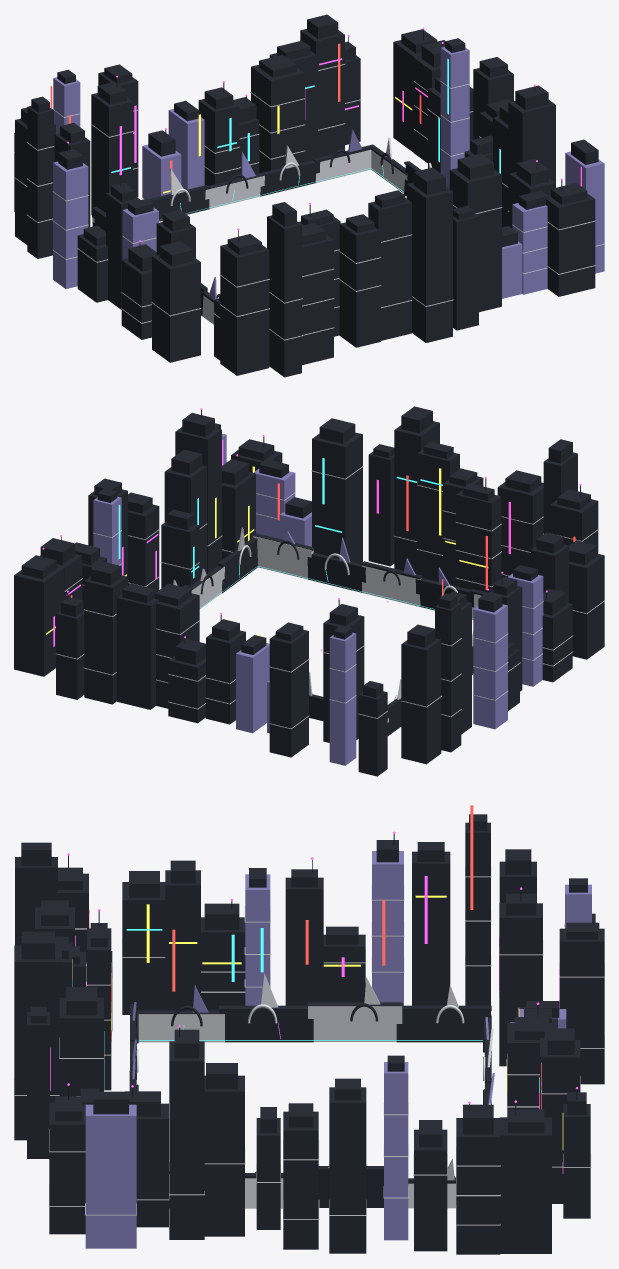
The model's file is AAT_Border.glb.
3 renders of one model, top to bottom at view 1: azimuth 30°, elevation 25°; view 2: azimuth 150°, elevation 25°; view 3: azimuth 270°, elevation 25°, orthographic. The views are drawn at different scales.
Parts seen in each view (by area): view 1: BorderDeco__graphite, BorderDeco__lavender, BorderDeco__pearl, Wall_BorderN3__pearl, Wall_BorderN5__pearl, Wall_BorderN4__graphite, Wall_BorderN2__graphite, BorderDeco__bio, Wall_BorderE1__pearl, BorderDeco__magenta; view 2: BorderDeco__graphite, BorderDeco__lavender, BorderDeco__pearl, Wall_BorderS1__pearl, Wall_BorderS3__pearl, Wall_BorderS2__graphite, Wall_BorderE4__graphite, BorderDeco__bio, Wall_BorderS4__graphite, Wall_BorderE3__pearl, BorderDeco__magenta, BorderDeco__amber (+1 smaller); view 3: BorderDeco__graphite, BorderDeco__lavender, BorderDeco__pearl, Wall_BorderW3__pearl, Wall_BorderW2__graphite, Wall_BorderW4__graphite, Wall_BorderW1__pearl, BorderDeco__lantern, Wall_BorderE2__graphite, BorderDeco__bio, BorderDeco__amber, BorderDeco__magenta.
Part boxes in pixels (x1,y1,x2,y2): BorderDeco__graphite: (14,14,598,377); BorderDeco__lavender: (53,47,604,299); BorderDeco__pearl: (14,64,604,340); Wall_BorderN3__pearl: (205,175,264,208); Wall_BorderN5__pearl: (315,149,371,182); Wall_BorderN4__graphite: (260,163,319,196); Wall_BorderN2__graphite: (153,190,209,221); BorderDeco__bio: (111,58,500,220); Wall_BorderE1__pearl: (371,150,407,193); BorderDeco__magenta: (67,27,581,241); BorderDeco__graphite: (14,406,604,776); BorderDeco__lavender: (93,433,543,765); BorderDeco__pearl: (56,466,604,729); Wall_BorderS1__pearl: (253,536,313,579); Wall_BorderS3__pearl: (362,565,421,606); Wall_BorderS2__graphite: (307,555,365,592); Wall_BorderE4__graphite: (218,541,257,593); BorderDeco__bio: (118,458,473,618); Wall_BorderS4__graphite: (415,580,473,610); Wall_BorderE3__pearl: (191,566,224,608); BorderDeco__magenta: (42,408,581,646); BorderDeco__amber: (46,466,488,636); BorderDeco__graphite: (14,814,604,1254); BorderDeco__lavender: (76,851,591,1248); BorderDeco__pearl: (14,866,604,1225); Wall_BorderW3__pearl: (308,1006,402,1041); Wall_BorderW2__graphite: (219,1009,313,1042); Wall_BorderW4__graphite: (396,1011,490,1042); Wall_BorderW1__pearl: (138,1014,224,1042); BorderDeco__lantern: (89,805,564,1109); Wall_BorderE2__graphite: (318,1169,383,1207); BorderDeco__bio: (72,928,539,1092); BorderDeco__amber: (72,895,563,1149); BorderDeco__magenta: (50,831,578,1173).
Bounding box in the file's own units: 326 × 120 × 313.
